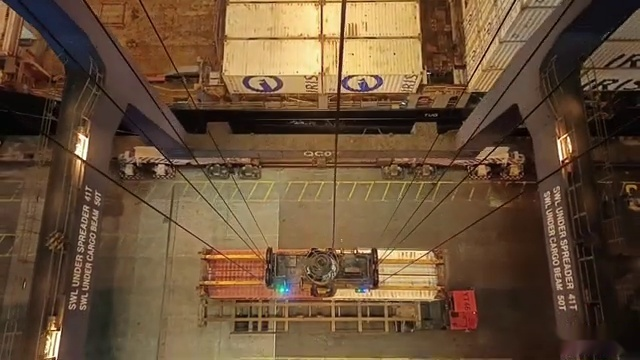container: (196, 244, 453, 308), (219, 36, 424, 91), (220, 0, 420, 37), (208, 1, 436, 31), (209, 0, 433, 26), (223, 0, 424, 22), (228, 0, 420, 3), (216, 0, 431, 2)
guide_mark: (108, 182, 549, 202), (81, 346, 556, 360)
spreader: (193, 249, 451, 307)
target_slot: (167, 282, 440, 342)
